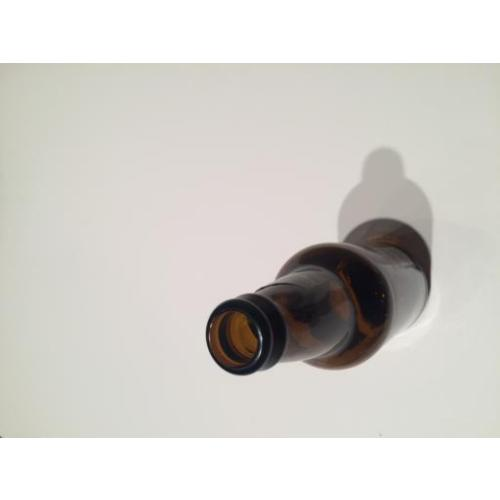glass: (206, 244, 426, 374)
